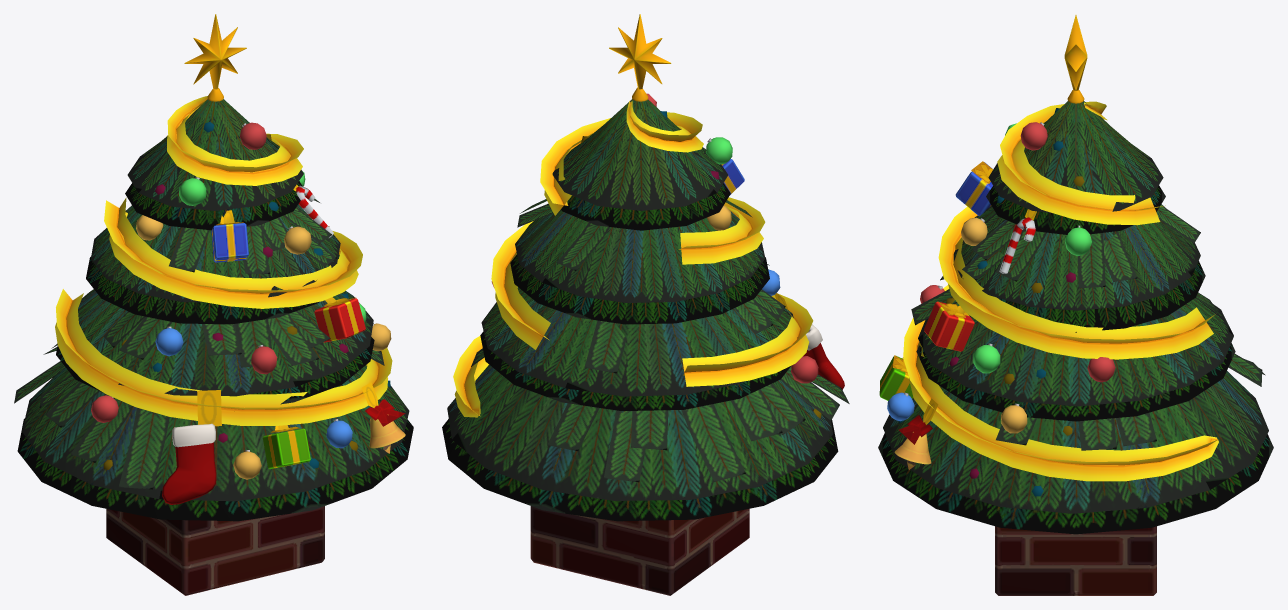
File: ChrismasTree2.glb
The picture shows the model from 3 angles, left to right: view 1: azimuth 30°, elevation 25°; view 2: azimuth 150°, elevation 25°; view 3: azimuth 270°, elevation 25°; orthographic projection.
Parts seen in each view (by area): view 1: Bell00Ball_low__mReBody, Star00_low__mReBody, BlueLight01__mLight; view 2: Bell00Ball_low__mReBody, Star00_low__mReBody; view 3: Bell00Ball_low__mReBody, BlueLight01__mLight, Star00_low__mReBody.
Boxes of the visible parts, x1=… form: Bell00Ball_low__mReBody: x1=14, y1=87, x2=413, y2=595; Star00_low__mReBody: x1=184, y1=14, x2=246, y2=89; BlueLight01__mLight: x1=103, y1=121, x2=390, y2=469; Bell00Ball_low__mReBody: x1=442, y1=87, x2=849, y2=595; Star00_low__mReBody: x1=609, y1=14, x2=671, y2=89; Bell00Ball_low__mReBody: x1=878, y1=90, x2=1273, y2=595; BlueLight01__mLight: x1=898, y1=108, x2=1084, y2=496; Star00_low__mReBody: x1=1064, y1=15, x2=1087, y2=90.
Bounding box in the file's own units: 1.6 × 2.36 × 1.55.
3 materials, 3 textured.
